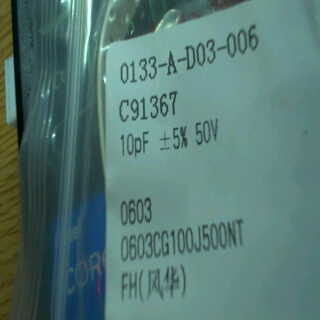10pF: (118, 127, 151, 161)
